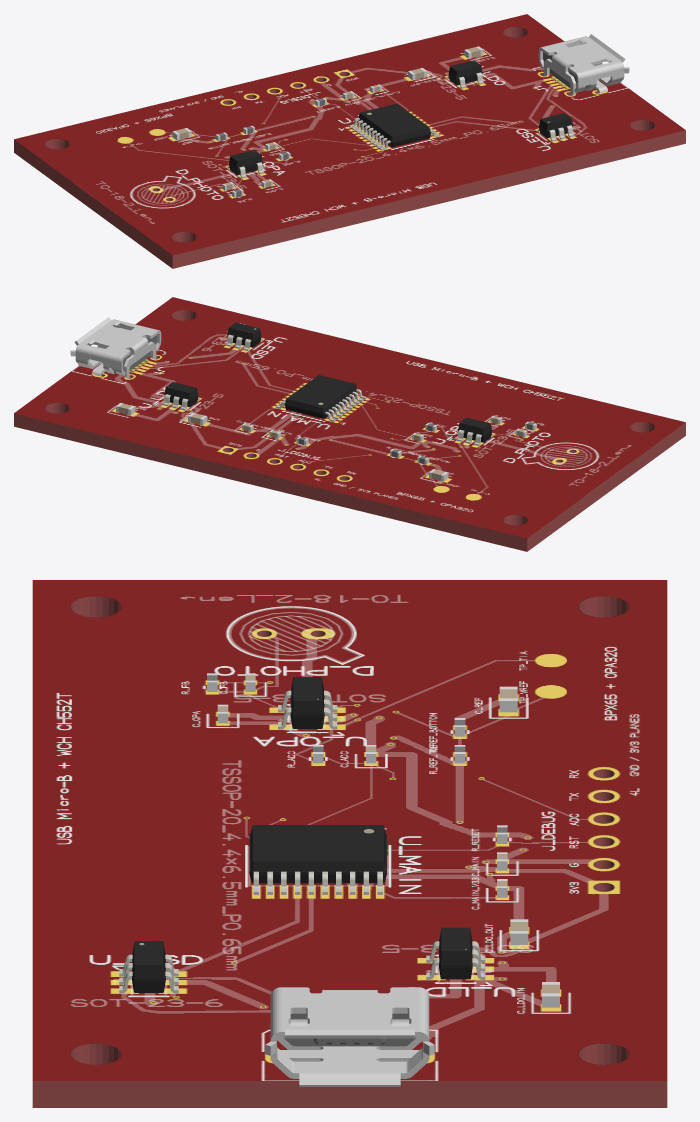
3 renders of one model, top to bottom at view 1: azimuth 30°, elevation 25°; view 2: azimuth 150°, elevation 25°; view 3: azimuth 270°, elevation 25°, orthographic. The views are drawn at different scales.
Visible parts, largest first — view 1: Box0, J1, U_MAIN, U_ESD, U_LDO, U_OPA; view 2: Box0, J1, U_MAIN, U_ESD, U_LDO, U_OPA; view 3: Box0, J1, U_MAIN, U_ESD, U_LDO, U_OPA.
Part boxes in pixels (<box>): Box0: <box>14,14,685,268</box>; J1: <box>538,34,629,95</box>; U_MAIN: <box>349,103,439,150</box>; U_ESD: <box>537,113,574,141</box>; U_LDO: <box>447,60,483,88</box>; U_OPA: <box>227,150,264,178</box>; Box0: <box>14,297,685,551</box>; J1: <box>70,317,161,378</box>; U_MAIN: <box>275,375,366,421</box>; U_ESD: <box>226,322,262,350</box>; U_LDO: <box>163,382,199,410</box>; U_OPA: <box>456,417,493,445</box>; Box0: <box>32,580,667,1107</box>; J1: <box>265,987,434,1086</box>; U_MAIN: <box>249,825,386,894</box>; U_ESD: <box>119,941,178,993</box>; U_LDO: <box>426,927,485,979</box>; U_OPA: <box>278,677,337,729</box>.
Bounding box in the file's own units: 56.29 × 4.13 × 30.
Materials: 13 (2 with a texture image).
